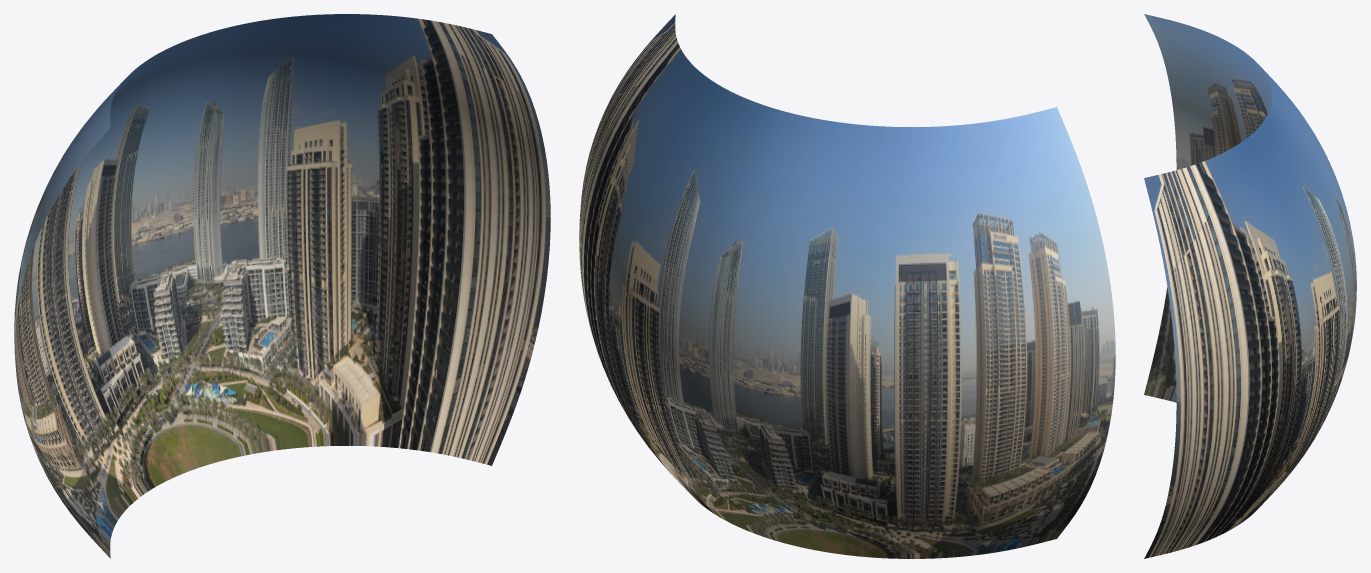
3 views of the same model, side by side, from view 1: azimuth 30°, elevation 25°; view 2: azimuth 150°, elevation 25°; view 3: azimuth 270°, elevation 25° (orthographic). The views are drawn at different scales.
Visible parts, largest first — view 1: BG01; view 2: BG01; view 3: BG01.
Part boxes in pixels (x1,y1,x2,y2): BG01: (14,14,550,558); BG01: (579,14,1115,558); BG01: (1144,14,1356,558).
Bounding box in the file's own units: 243 × 188 × 95.05.
Materials: 1 (1 with a texture image).
